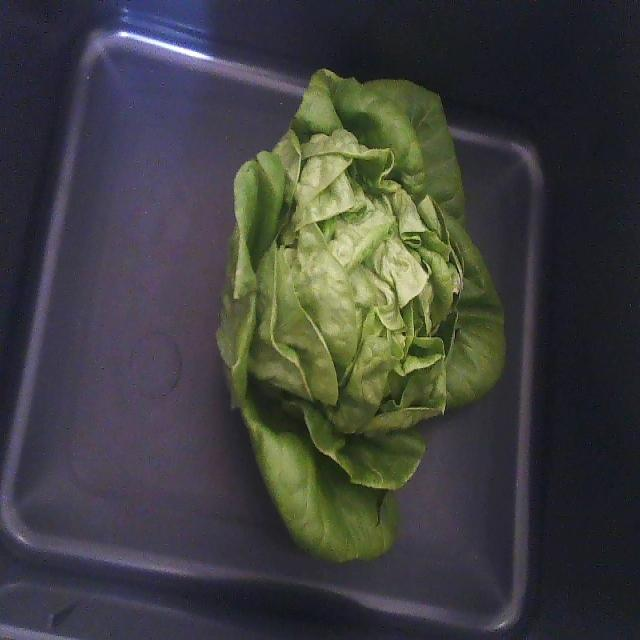Lettuce-plant: (216, 69, 505, 560)
